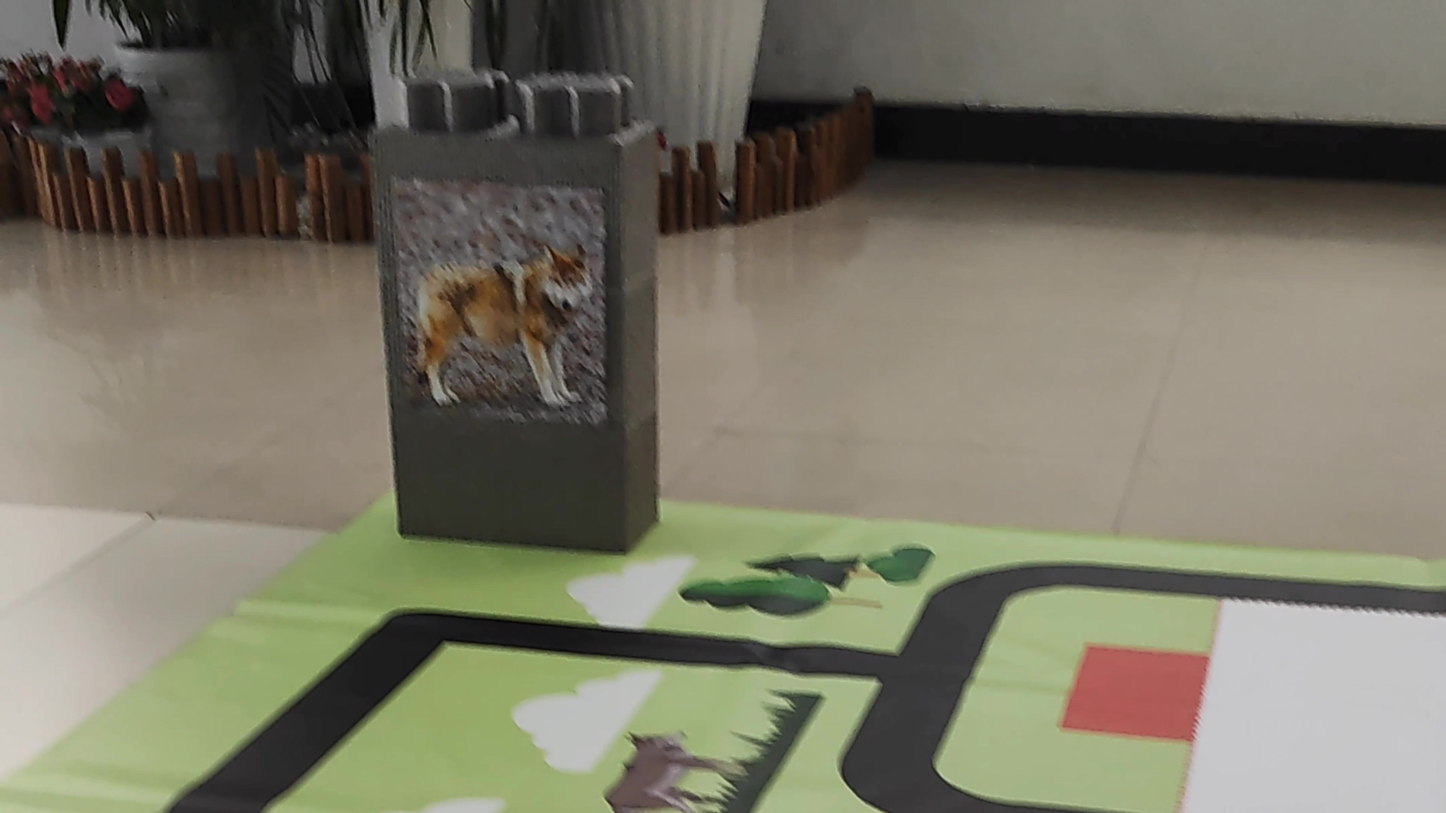wolf: (403, 192, 592, 420)
